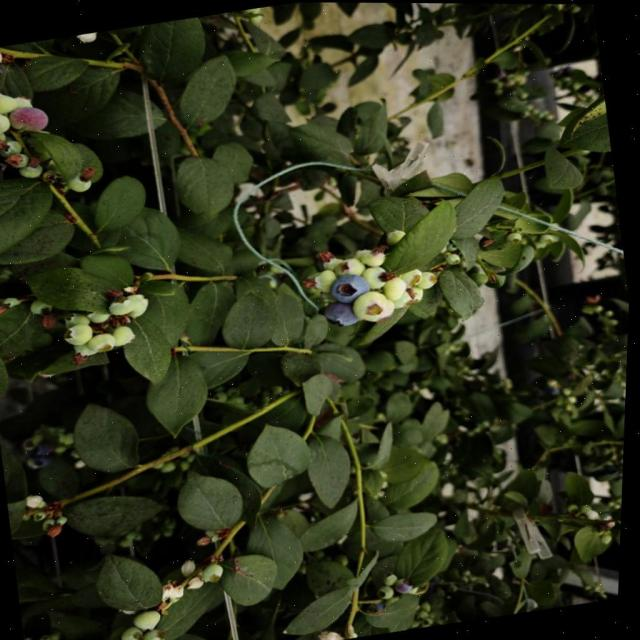RipeBlueBerry: (327, 270, 374, 304), (322, 299, 362, 329)
Semi-RipeBlueBerry: (7, 103, 52, 136)
UnripeBlueBerry: (352, 288, 392, 323)
